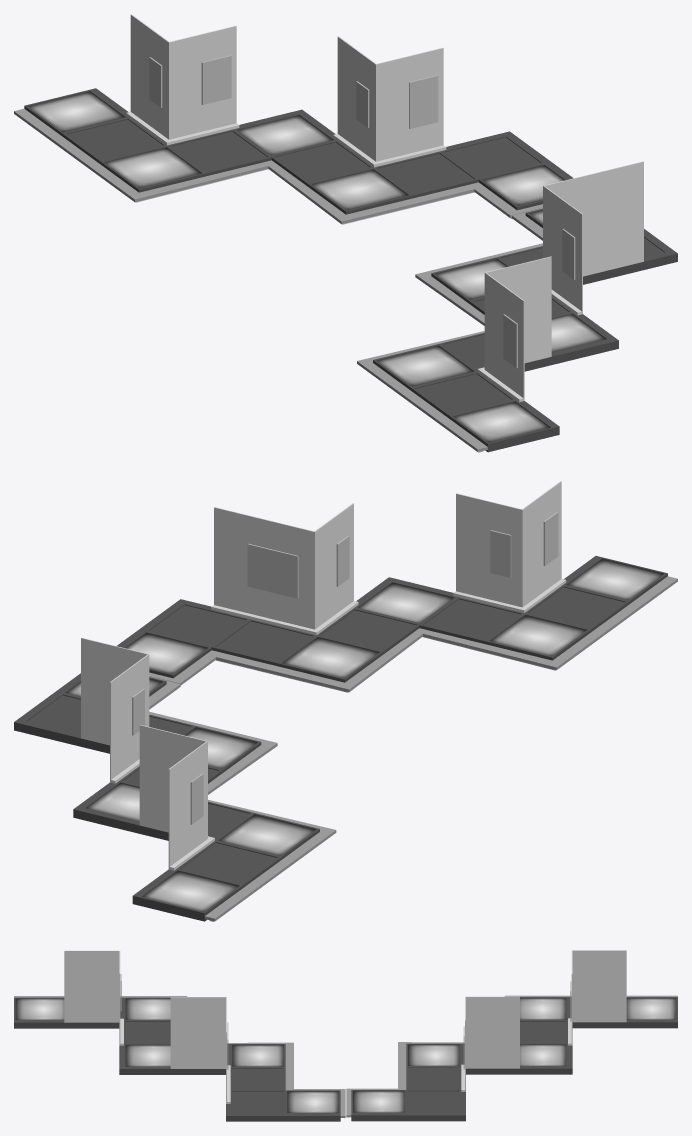
The model's file is IslaRenold.fbx.
The picture shows the model from 3 angles, top to bottom: view 1: azimuth 30°, elevation 25°; view 2: azimuth 150°, elevation 25°; view 3: azimuth 270°, elevation 25°; orthographic projection. The views are drawn at different scales.
Parts seen in each view (by area): view 1: background1, Background, background, background2, frameBox, FrameLightBox, Box19, Box8, Box4, Box6, Box2, Box (+15 smaller); view 2: background1, background2, Background, background, FrameLightBox, frameBox, Box, Box15, Box11, Box13, Box17, Box19 (+15 smaller); view 3: background1, background2, Background, background, Box8, Box11, Box10, Box9, Box4, Box, Box19, Box15 (+14 smaller).
Part boxes in pixels (x1,y1,x2,y2): background1: (543, 161, 643, 315); Background: (126, 14, 239, 145); background: (333, 36, 446, 167); background2: (477, 256, 551, 401); frameBox: (14, 108, 542, 224); FrameLightBox: (357, 208, 542, 451); Box19: (449, 400, 559, 452); Box8: (441, 131, 550, 179); Box4: (234, 109, 335, 157); Box6: (307, 167, 412, 214); Box2: (100, 145, 205, 192); Box: (24, 88, 128, 136); background1: (211, 503, 358, 635); background2: (453, 481, 566, 613); Background: (139, 724, 214, 870); background: (81, 637, 149, 783); FrameLightBox: (149, 576, 677, 692); frameBox: (149, 676, 336, 921); Box: (132, 869, 243, 921); Box15: (355, 577, 457, 625); Box11: (139, 599, 249, 647); Box13: (278, 635, 383, 682); Box17: (486, 613, 590, 660); Box19: (563, 556, 667, 603); background1: (170, 997, 230, 1103); background2: (64, 950, 123, 1045); Background: (568, 950, 626, 1045); background: (461, 996, 519, 1091); Box8: (406, 1090, 465, 1121); Box11: (226, 1090, 285, 1121); Box10: (285, 1090, 340, 1121); Box9: (351, 1090, 406, 1121); Box4: (516, 1043, 572, 1074); Box: (623, 997, 677, 1028); Box19: (14, 997, 68, 1028); Box15: (119, 1044, 175, 1074).
Size of the model in its own units: 1316 by 390 by 3020.
